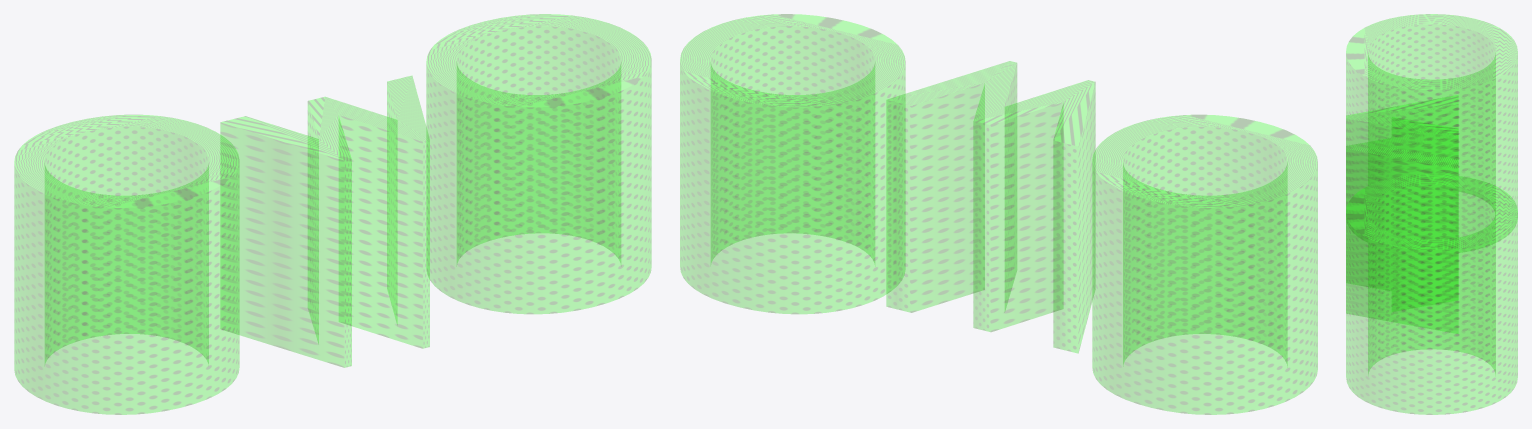
3 views of the same model, side by side, from view 1: azimuth 30°, elevation 25°; view 2: azimuth 150°, elevation 25°; view 3: azimuth 270°, elevation 25° (orthographic). The views are drawn at different scales.
Visible parts, largest first — view 1: Text_primitive; view 2: Text_primitive; view 3: Text_primitive.
Boxes of the visible parts, <box> form: Text_primitive: <box>14,14,651,414</box>; Text_primitive: <box>680,14,1317,414</box>; Text_primitive: <box>1346,14,1517,414</box>.
Bounding box in the file's own units: 2.28 × 0.74 × 0.7.
Materials: 1 (1 with a texture image).
